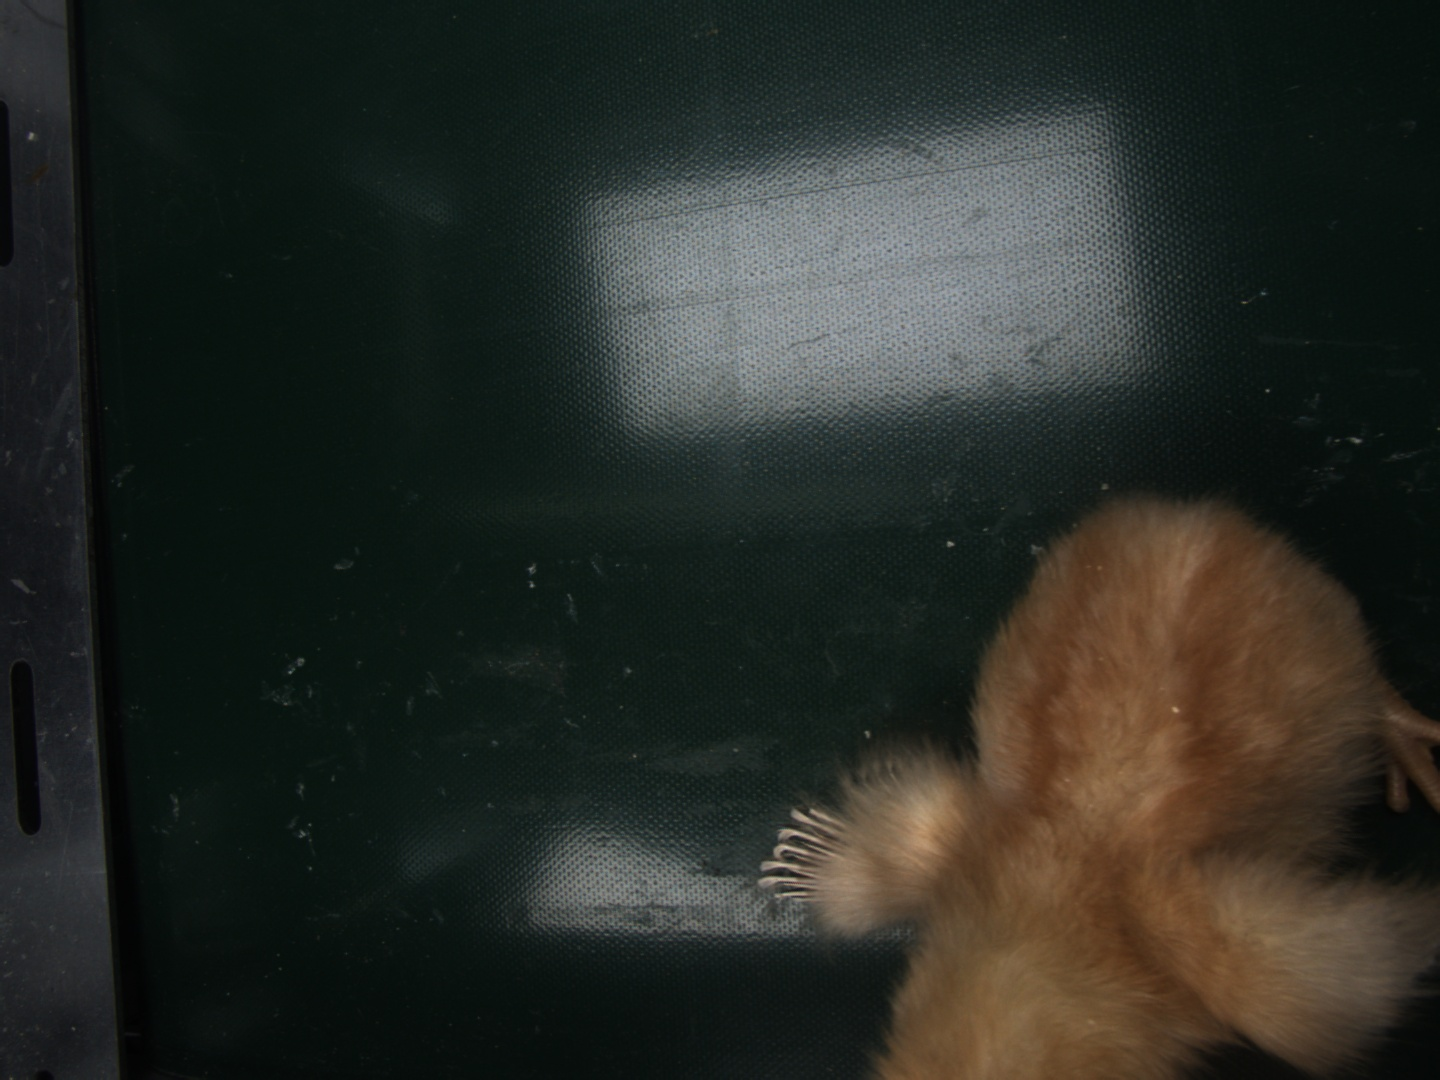female: (759, 805, 852, 902)
